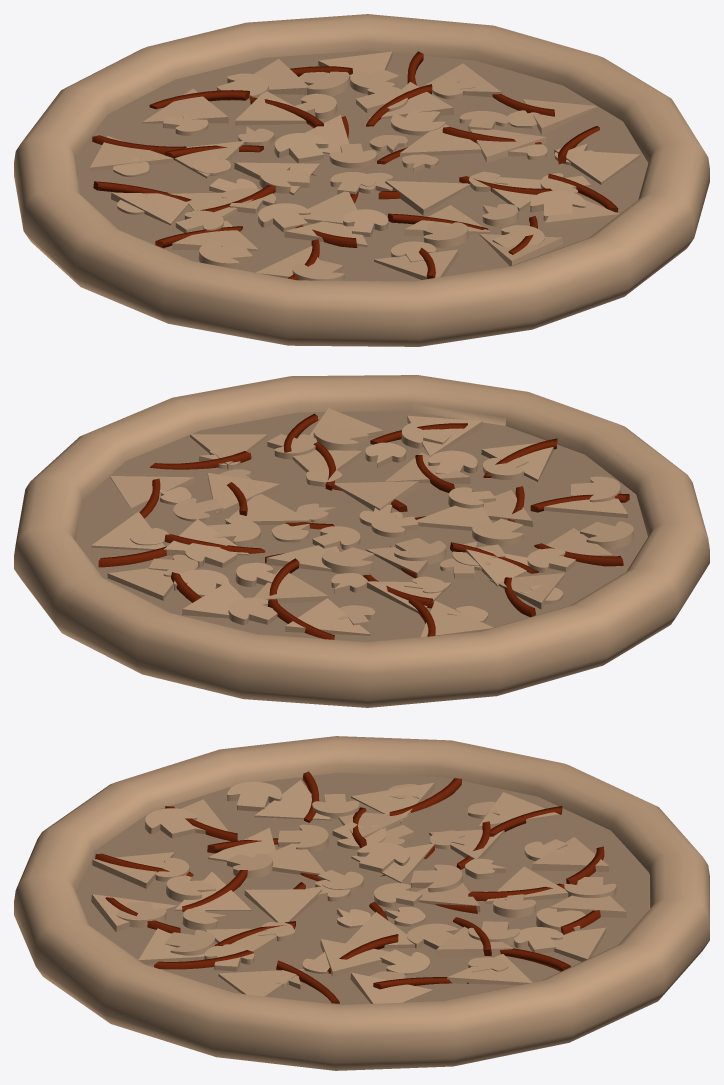
The model's file is Pizzas.glb.
3 views of the same model, one above another, from view 1: azimuth 30°, elevation 25°; view 2: azimuth 150°, elevation 25°; view 3: azimuth 270°, elevation 25° (orthographic).
Parts seen in each view (by area): view 1: Pizza, Cheese, Ham (×26), Mushroom (×28), Pepper (×7); view 2: Pizza, Cheese, Ham (×26), Mushroom (×28), Pepper (×6); view 3: Pizza, Cheese, Ham (×26), Mushroom (×27), Pepper (×8).
Boxes of the visible parts, x1=… form: Pizza: x1=14, y1=14, x2=709, y2=346; Cheese: x1=75, y1=50, x2=648, y2=281; Ham (×26): x1=90, y1=51, x2=640, y2=279; Mushroom (×28): x1=162, y1=69, x2=590, y2=280; Pepper (×7): x1=92, y1=84, x2=618, y2=229; Pizza: x1=14, y1=375, x2=709, y2=707; Cheese: x1=75, y1=411, x2=647, y2=642; Ham (×26): x1=91, y1=408, x2=627, y2=637; Mushroom (×28): x1=130, y1=421, x2=634, y2=627; Pepper (×6): x1=98, y1=423, x2=623, y2=639; Pizza: x1=14, y1=736, x2=709, y2=1070; Cheese: x1=76, y1=772, x2=648, y2=1004; Ham (×26): x1=91, y1=780, x2=626, y2=1003; Mushroom (×27): x1=116, y1=781, x2=616, y2=974; Pepper (×8): x1=154, y1=778, x2=570, y2=1003.
Bounding box in the file's own units: 0.3612 × 0.0375 × 0.3598.
